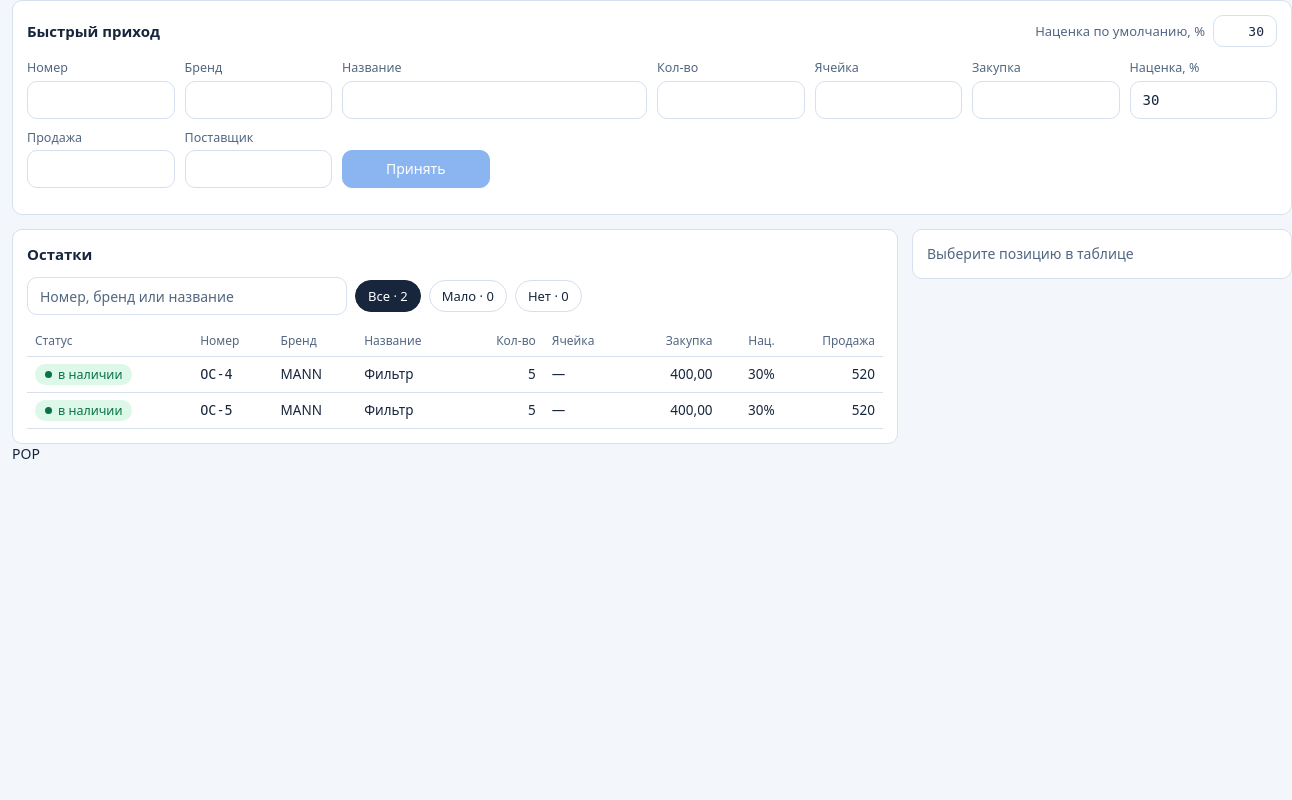
Test case: replaces the history entry when a row is selected
What coordinates should you click on to do the following:
click the text "OC-4"
I would click on:
 (232, 374)
Its box is [192,356,273,392].
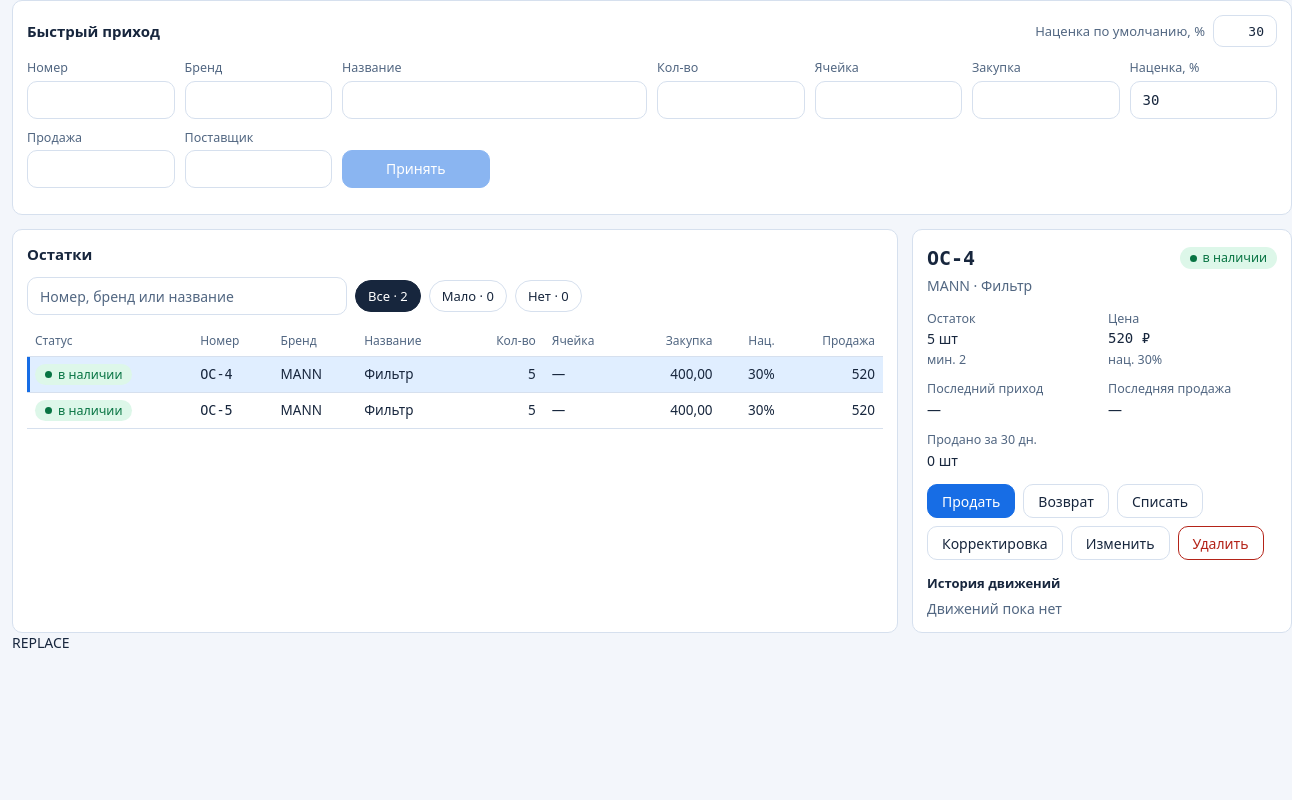
Expected: the text named "navigation" reads "REPLACE", [12,633,70,652]
